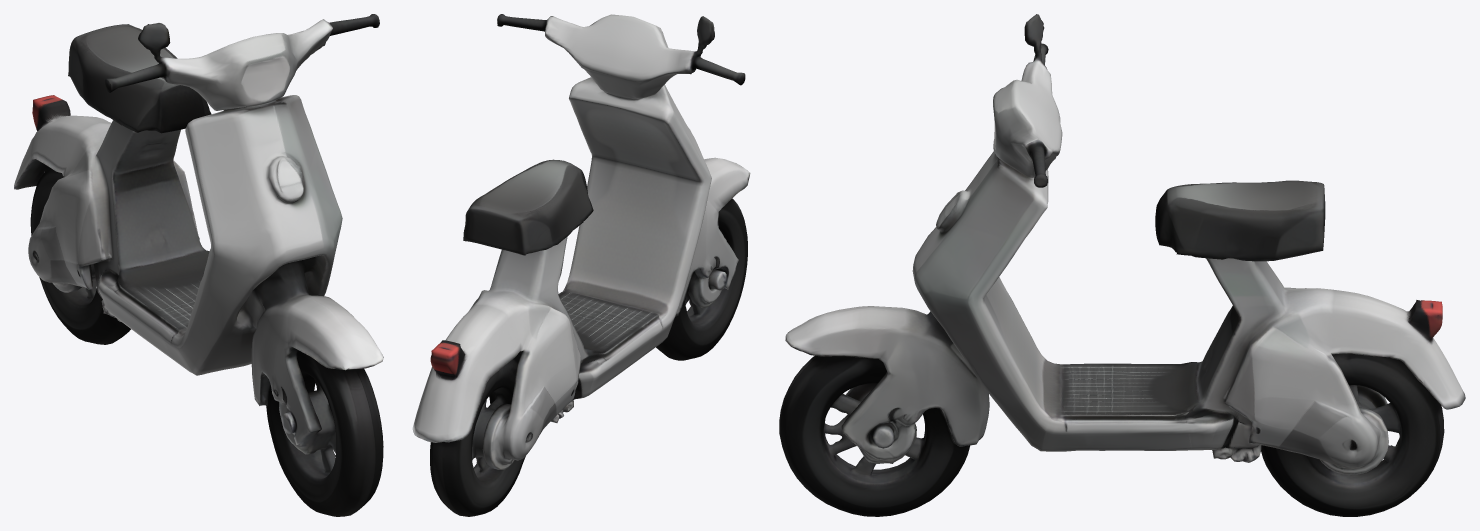
The model's file is motor-rodin.glb.
3 renders of one model, left to right at view 1: azimuth 30°, elevation 25°; view 2: azimuth 150°, elevation 25°; view 3: azimuth 270°, elevation 25°, orthographic. The views are drawn at different scales.
Visible parts, largest first — view 1: model; view 2: model; view 3: model.
Part boxes in pixels (<box>): model: <box>14,14,383,516</box>; model: <box>412,14,750,516</box>; model: <box>779,14,1465,516</box>.
Size of the model in its own units: 0.8381 by 1.35 by 1.84.
Materials: 1 (1 with a texture image).
